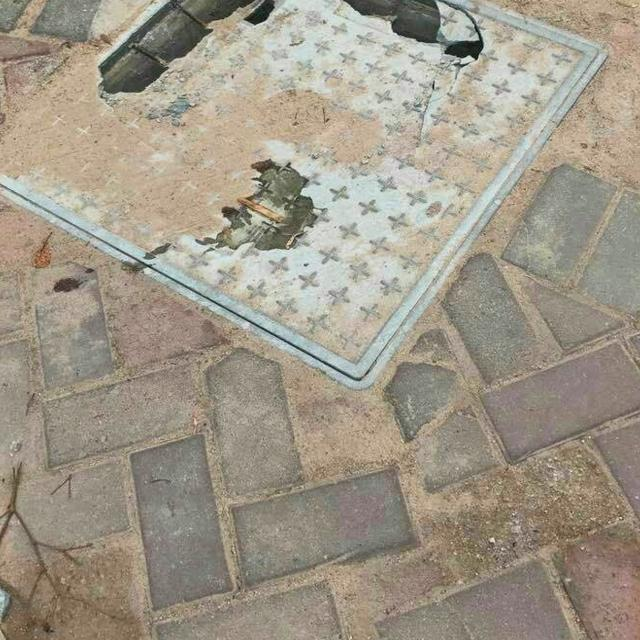broke: (0, 0, 605, 393)
